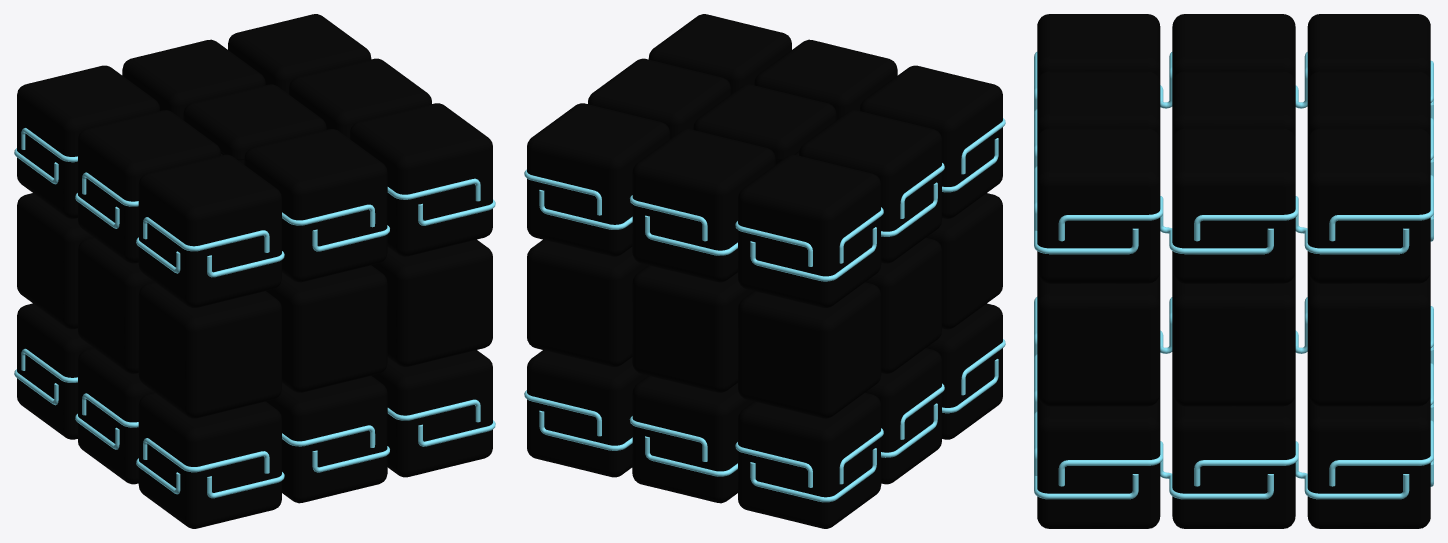
The model's file is chained-cubes-02-transformed.glb.
3 views of the same model, side by side, from view 1: azimuth 30°, elevation 25°; view 2: azimuth 150°, elevation 25°; view 3: azimuth 270°, elevation 25° (orthographic). The views are drawn at different scales.
Visible parts, largest first — view 1: object_16, object_41, object_44, object_63, object_13, object_58, object_67, object_50, object_53, object_49, object_48, object_42 (+7 smaller); view 2: object_49, object_43, object_46, object_57, object_62, object_52, object_55, object_66, object_60, object_16, object_48, object_41 (+9 smaller); view 3: object_13, object_12, object_62, object_58, object_59, object_60, object_61, object_67, object_66, object_49, object_48, object_16 (+4 smaller).
Boxes of the visible parts, left/top/right/bottom form: object_16: left=136, top=154, right=284, bottom=307; object_41: left=136, top=392, right=284, bottom=528; object_44: left=138, top=282, right=281, bottom=418; object_63: left=244, top=129, right=389, bottom=282; object_13: left=350, top=103, right=495, bottom=256; object_58: left=371, top=350, right=495, bottom=477; object_67: left=371, top=239, right=492, bottom=366; object_50: left=266, top=376, right=389, bottom=503; object_53: left=266, top=265, right=387, bottom=392; object_49: left=14, top=65, right=159, bottom=218; object_48: left=75, top=110, right=220, bottom=263; object_42: left=75, top=348, right=154, bottom=484; object_49: left=735, top=154, right=883, bottom=307; object_43: left=735, top=392, right=883, bottom=528; object_46: left=738, top=282, right=881, bottom=418; object_57: left=630, top=129, right=775, bottom=282; object_62: left=524, top=103, right=669, bottom=256; object_52: left=629, top=376, right=753, bottom=503; object_55: left=632, top=265, right=753, bottom=392; object_66: left=527, top=239, right=647, bottom=366; object_60: left=524, top=350, right=648, bottom=477; object_16: left=860, top=65, right=1005, bottom=218; object_48: left=799, top=110, right=944, bottom=263; object_41: left=926, top=303, right=1005, bottom=439; object_13: left=1034, top=128, right=1166, bottom=283; object_12: left=1166, top=128, right=1301, bottom=283; object_62: left=1301, top=128, right=1433, bottom=283; object_58: left=1034, top=394, right=1166, bottom=528; object_59: left=1166, top=394, right=1301, bottom=528; object_60: left=1301, top=394, right=1433, bottom=528; object_61: left=1172, top=271, right=1295, bottom=406; object_67: left=1037, top=272, right=1160, bottom=406; object_66: left=1307, top=272, right=1430, bottom=406; object_49: left=1301, top=14, right=1433, bottom=120; object_48: left=1166, top=14, right=1301, bottom=108; object_16: left=1034, top=14, right=1166, bottom=112.
Bounding box in the file's own units: 32.5 × 32 × 32.5.
